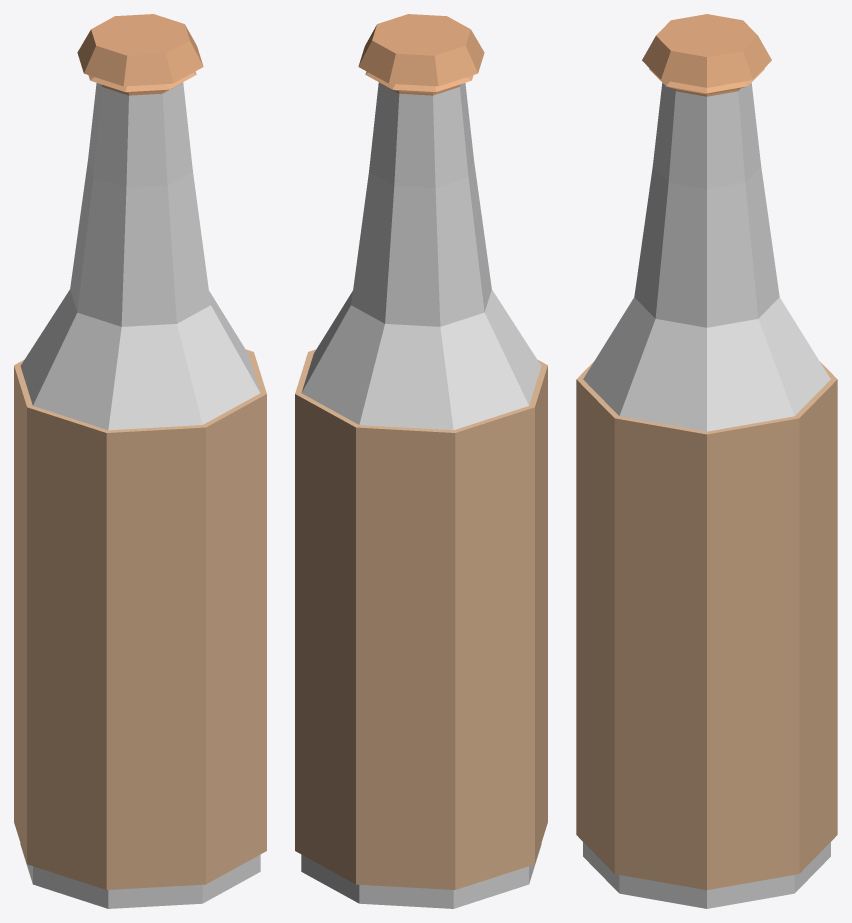
File: Botella_5_2.fbx
3 renders of one model, left to right at view 1: azimuth 30°, elevation 25°; view 2: azimuth 150°, elevation 25°; view 3: azimuth 270°, elevation 25°, orthographic.
Parts seen in each view (by area): view 1: Botella_5_2; view 2: Botella_5_2; view 3: Botella_5_2.
Boxes of the visible parts, box(x1,y1,x2,y2) form: Botella_5_2: box(14, 14, 266, 908); Botella_5_2: box(295, 14, 547, 908); Botella_5_2: box(576, 14, 837, 908).
Size of the model in its own units: 45.16 by 157 by 45.16.
